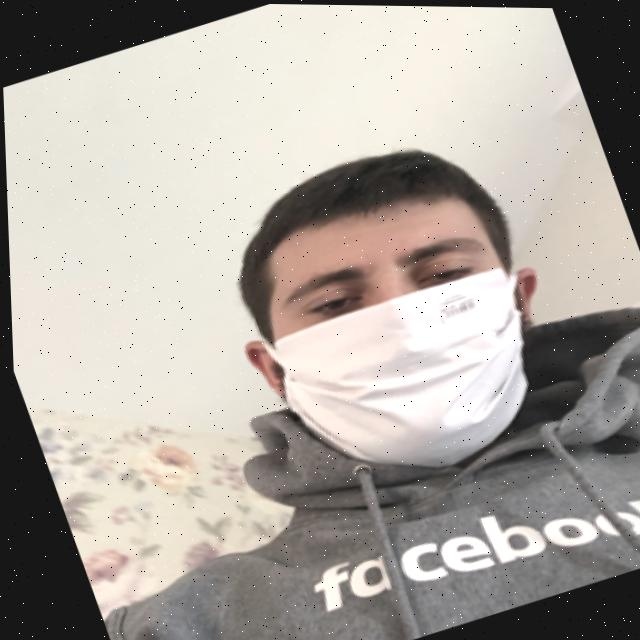Mask: (238, 238, 593, 512)
